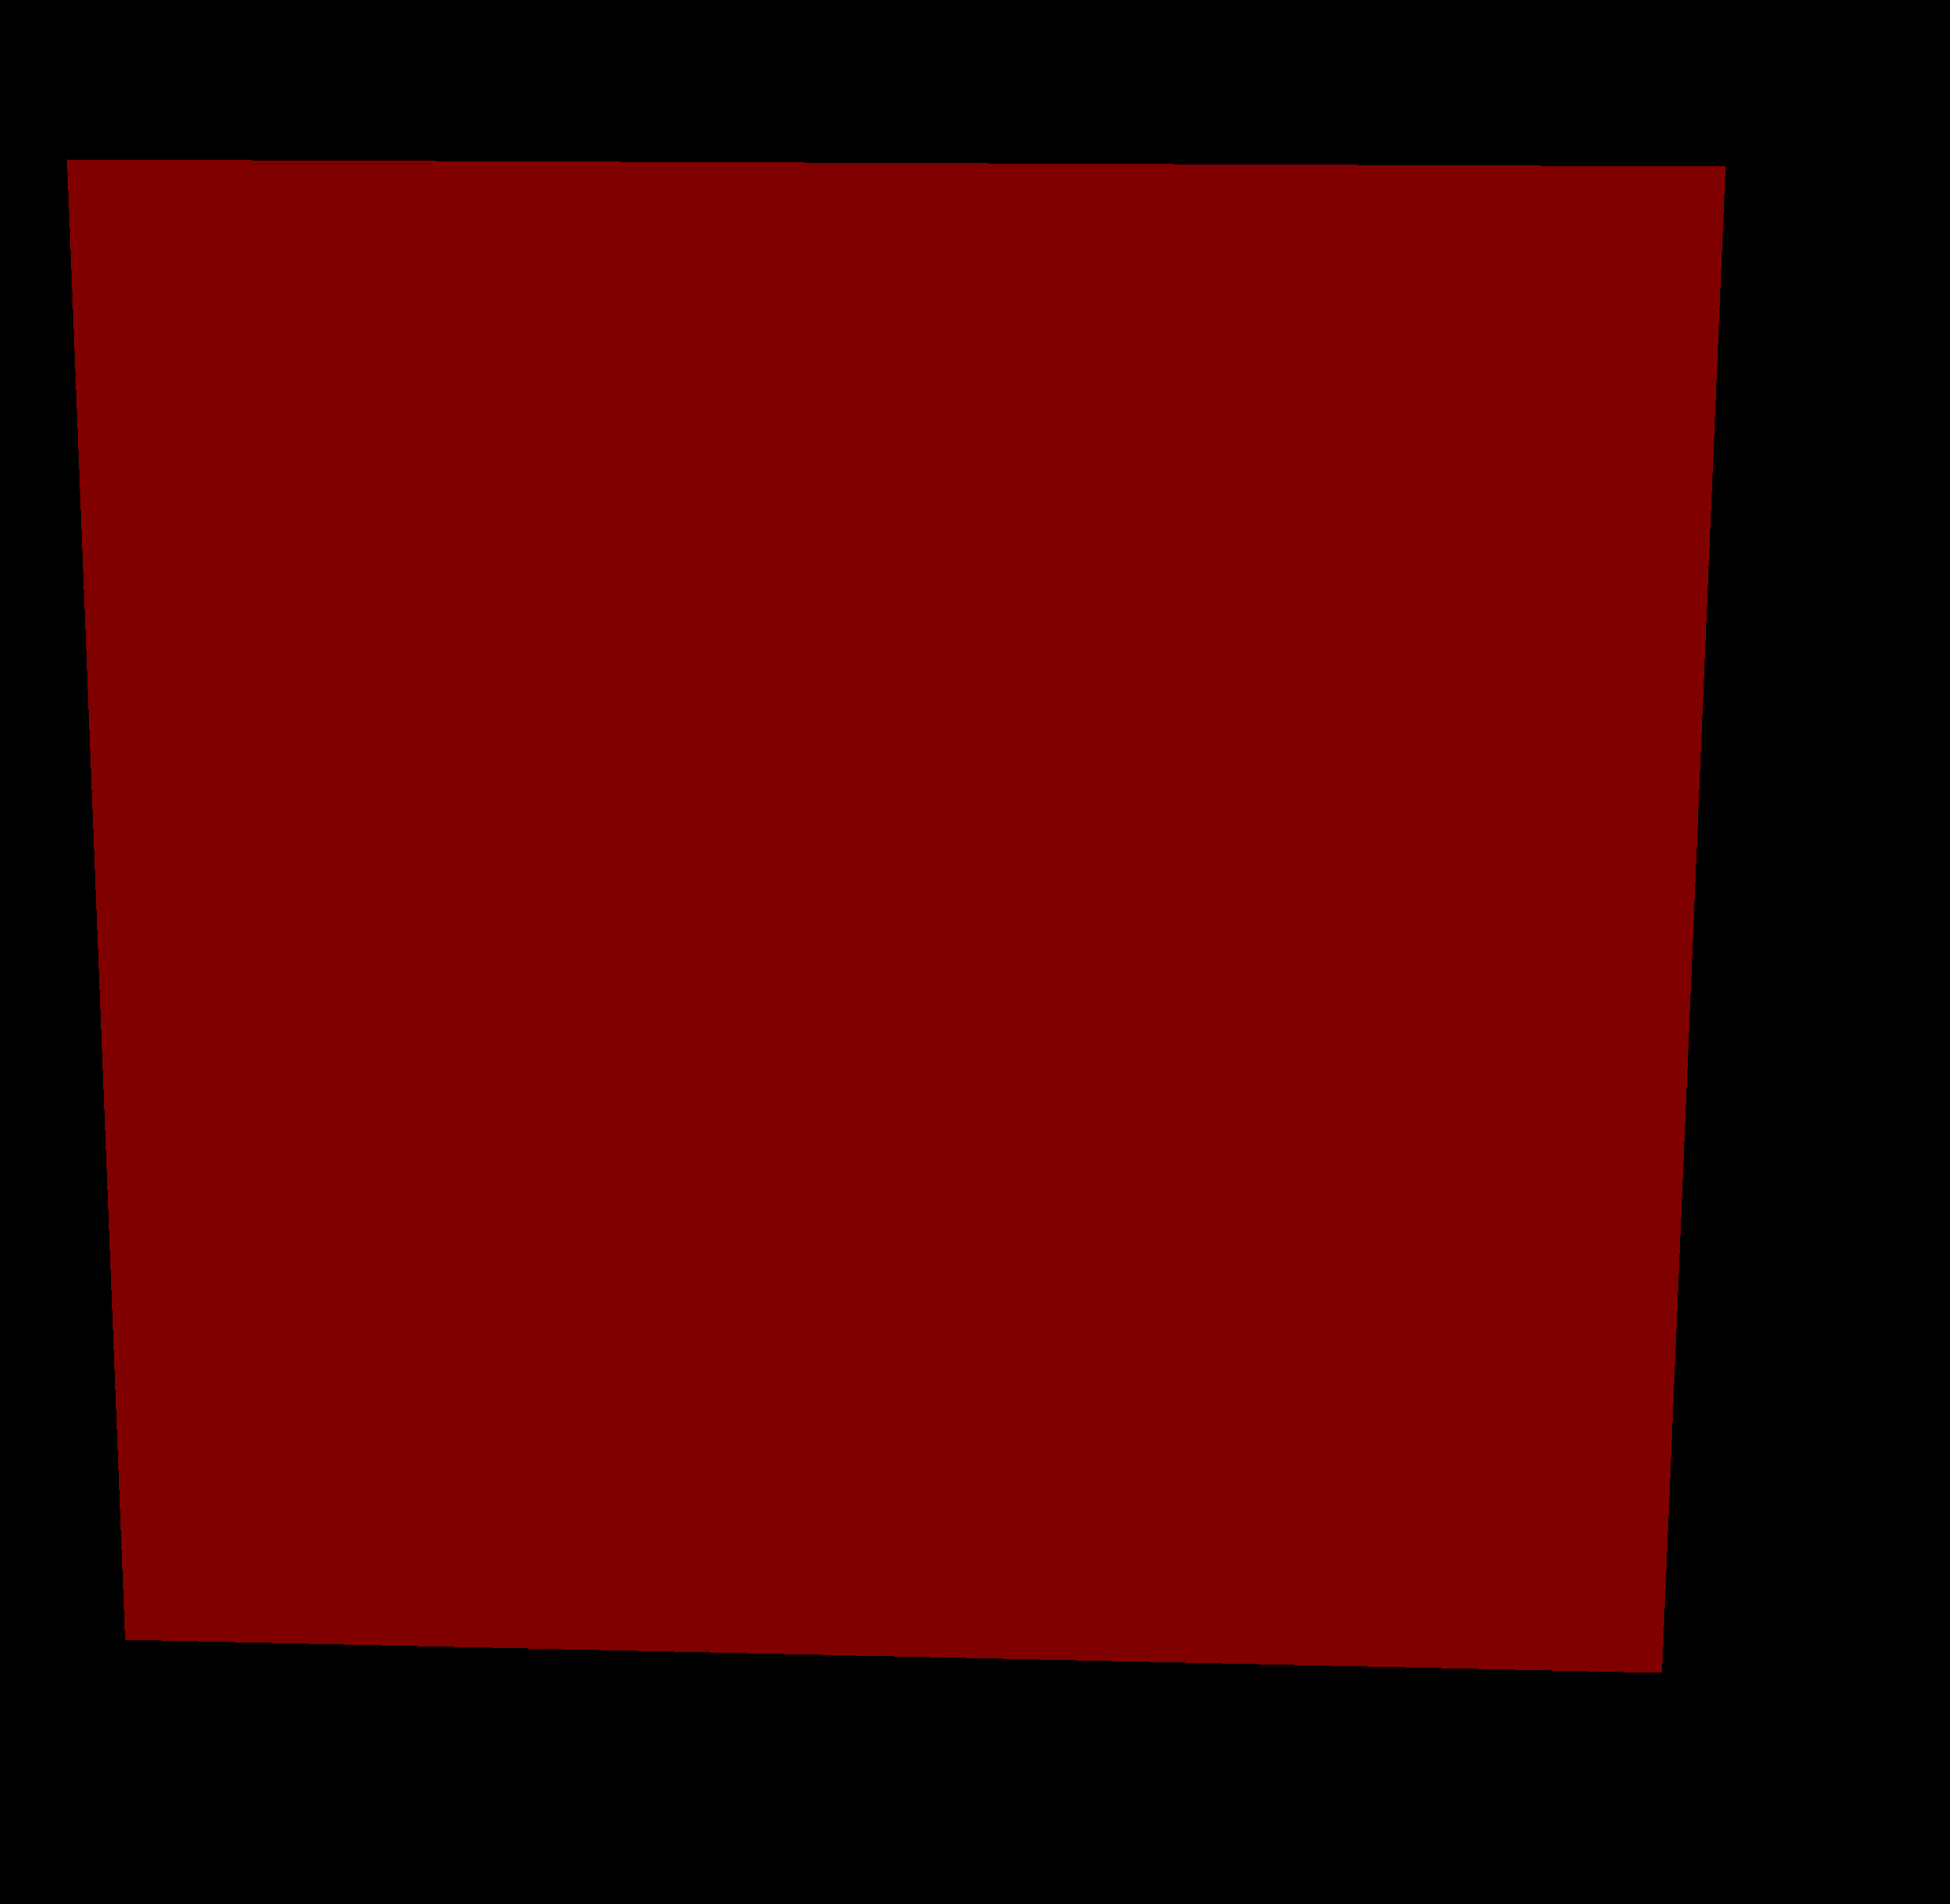sign: (66, 159, 1725, 1672)
